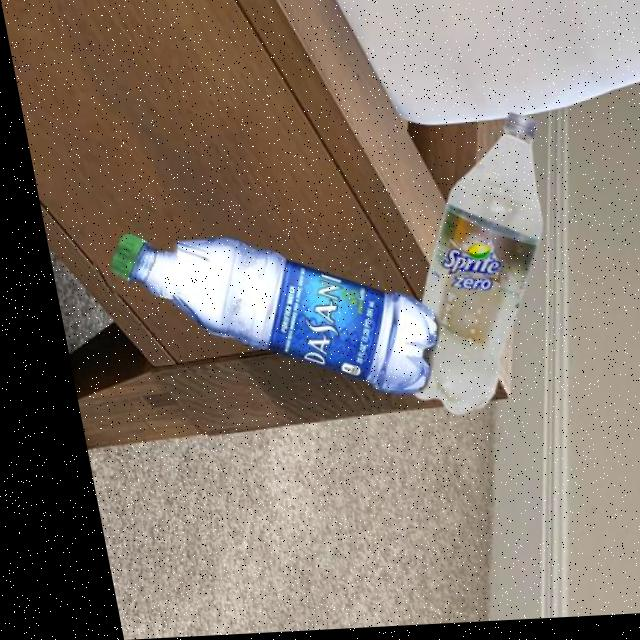plasticbottlecap: (73, 209, 174, 299)
